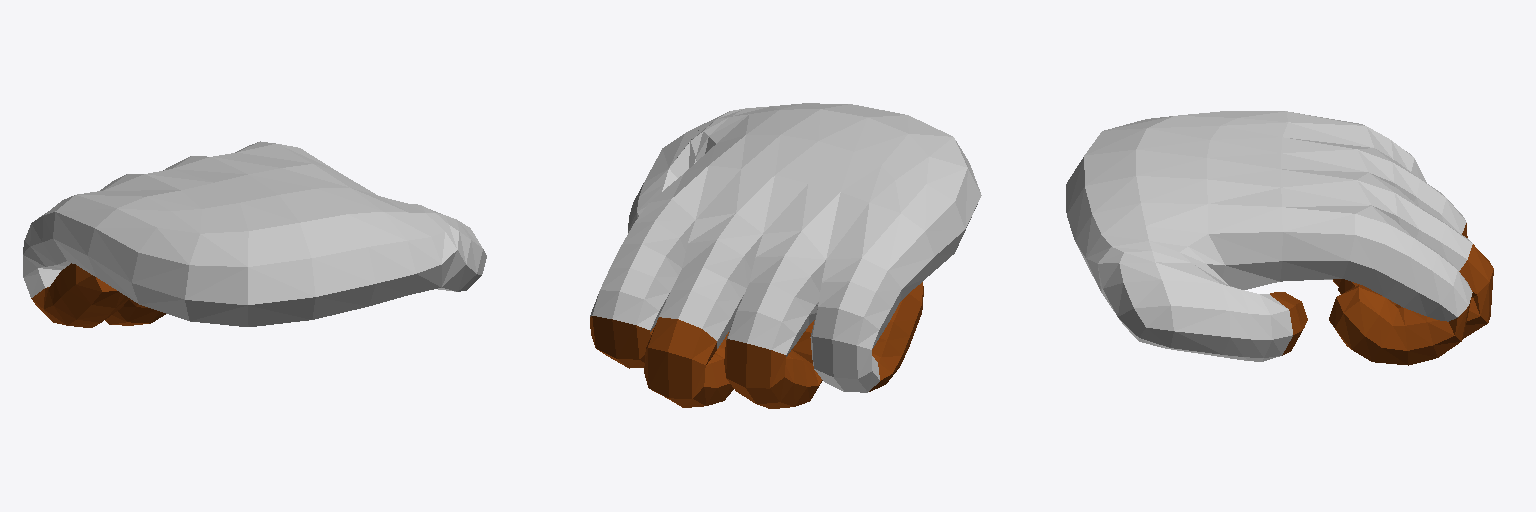
File: hand3L.obj
3 views of the same model, side by side, from view 1: azimuth 30°, elevation 25°; view 2: azimuth 150°, elevation 25°; view 3: azimuth 270°, elevation 25° (orthographic).
Visible parts, largest first — view 1: 立方体.001; view 2: 立方体.001; view 3: 立方体.001.
Boxes of the visible parts, x1=… form: 立方体.001: x1=23, y1=141, x2=486, y2=327; 立方体.001: x1=590, y1=103, x2=981, y2=408; 立方体.001: x1=1066, y1=111, x2=1493, y2=365.
Bounding box in the file's own units: 1.55 × 0.8137 × 1.7.